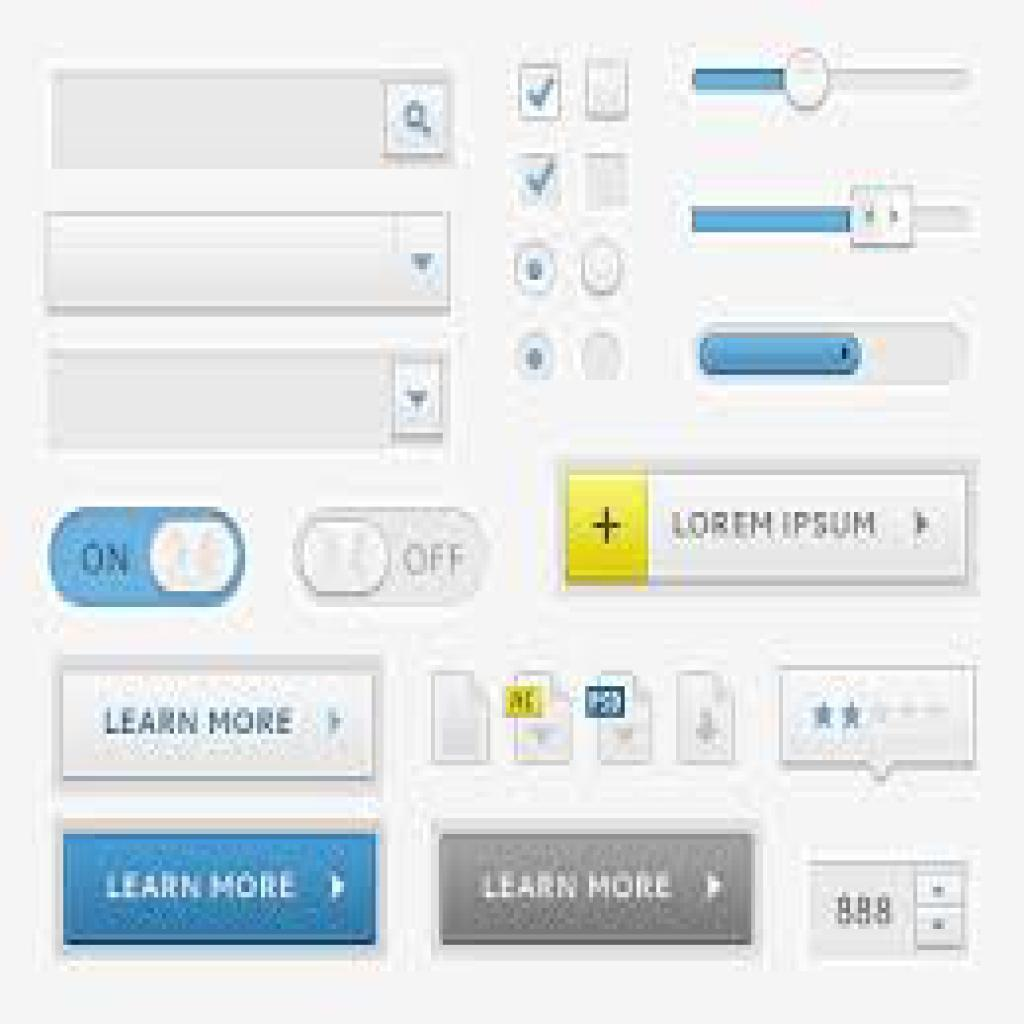checkbox: (518, 154, 567, 216), (584, 156, 632, 216), (587, 55, 629, 120), (520, 60, 564, 122)
dropdown: (569, 470, 967, 585), (49, 353, 450, 453), (44, 218, 450, 316), (54, 73, 457, 169), (63, 835, 375, 947), (441, 837, 754, 947), (61, 672, 372, 777)
radio: (579, 236, 637, 308), (571, 325, 636, 388), (513, 322, 556, 392), (513, 241, 561, 301)
slider: (681, 48, 991, 131), (695, 313, 974, 401), (687, 184, 982, 266)
switch: (49, 509, 247, 608), (294, 510, 493, 608)
